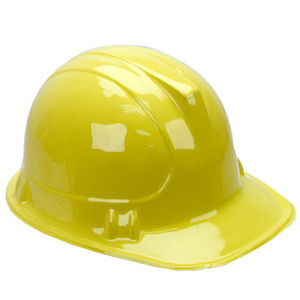safety: (9, 46, 296, 269)
